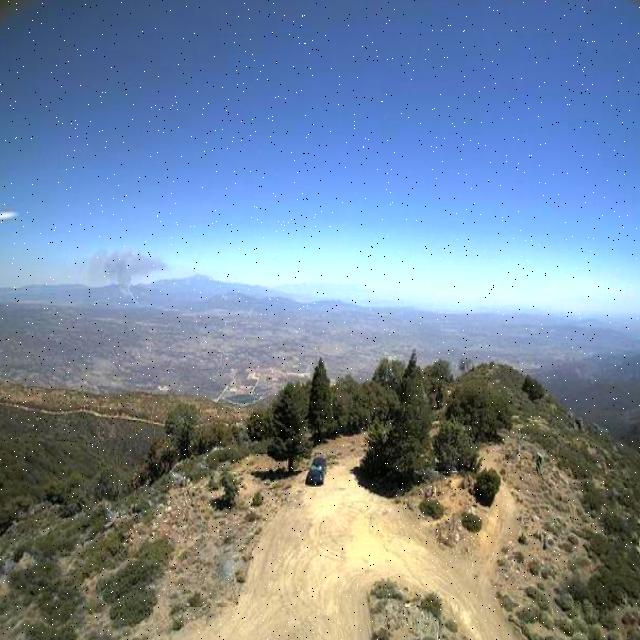smoke: (84, 242, 169, 308)
